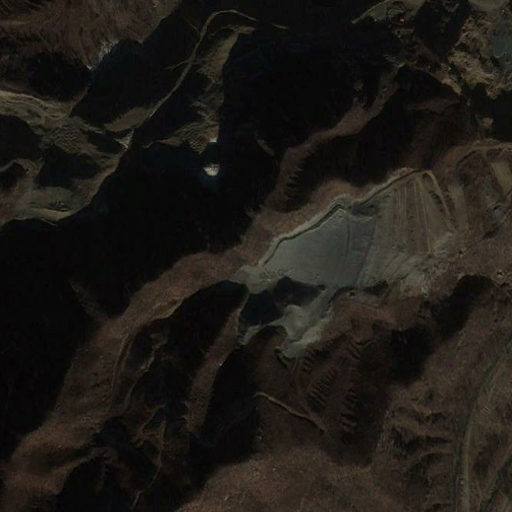tp: (257, 172, 436, 291)
